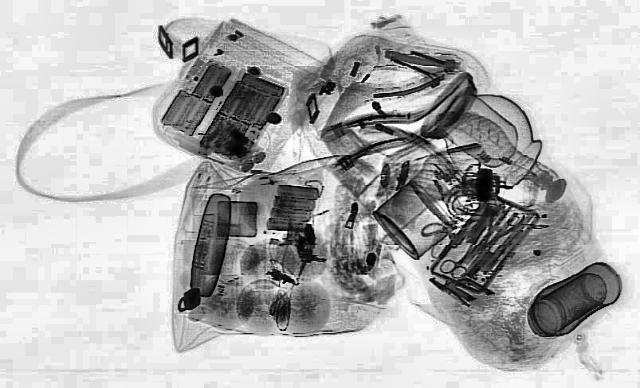Pliers: (464, 205, 528, 255)
Scissors: (432, 242, 488, 278)
